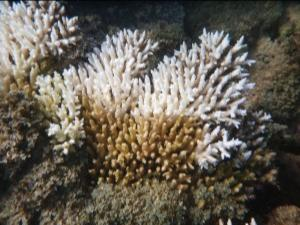bleached_corals: (33, 23, 254, 191), (0, 1, 81, 94)
